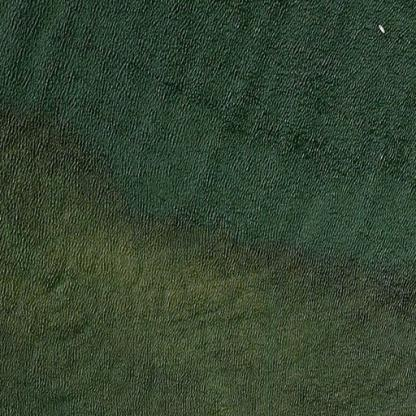ship: (374, 22, 384, 33)
